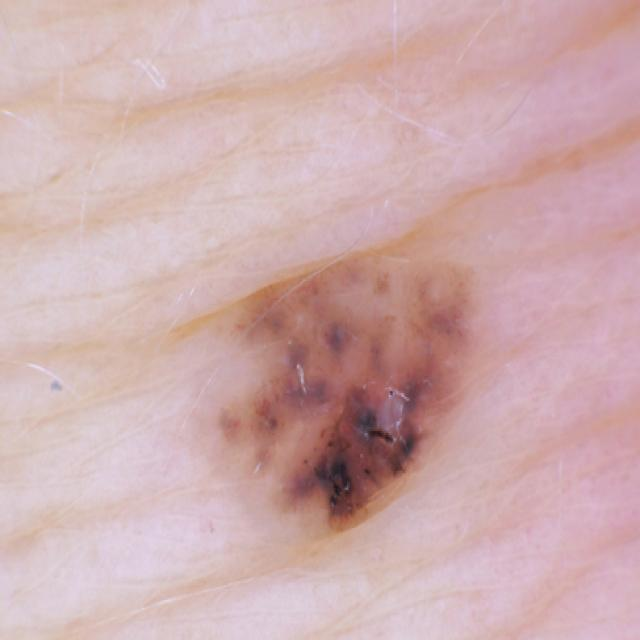Carcinoma: (176, 264, 557, 575)
